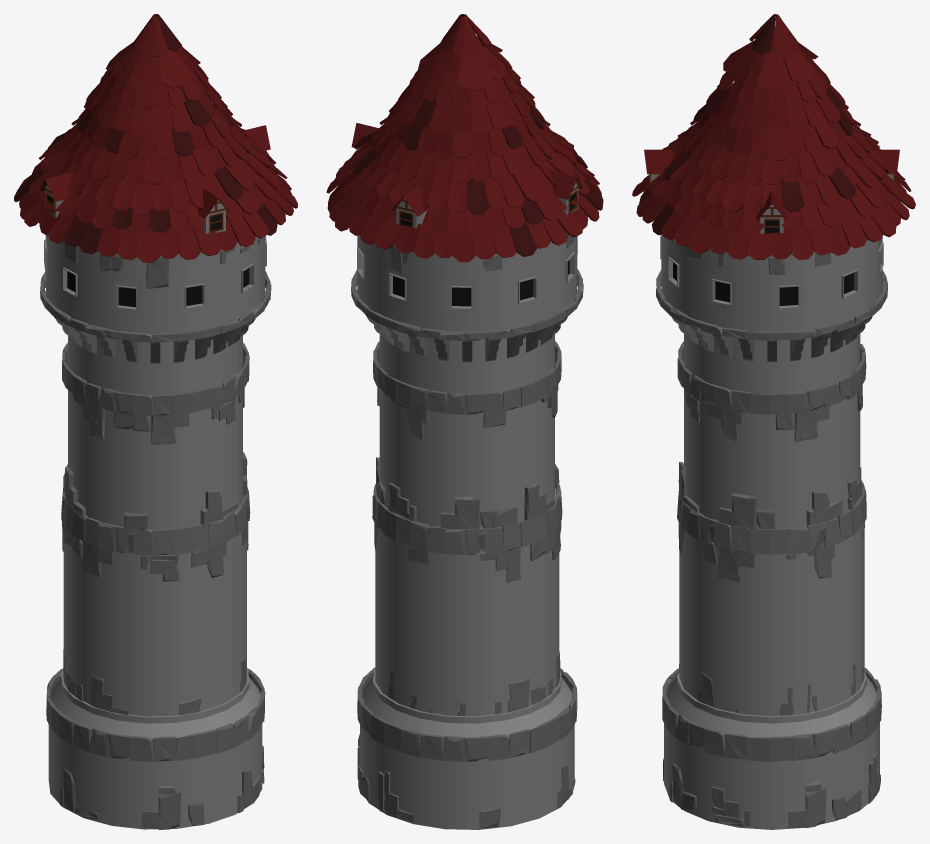
The model's file is SM_tower_01.fbx.
3 views of the same model, side by side, from view 1: azimuth 30°, elevation 25°; view 2: azimuth 150°, elevation 25°; view 3: azimuth 270°, elevation 25° (orthographic).
Parts seen in each view (by area): view 1: Cylinder015; view 2: Cylinder015; view 3: Cylinder015.
Boxes of the visible parts, left/top/right/bottom form: Cylinder015: left=14, top=14, right=297, bottom=829; Cylinder015: left=326, top=14, right=603, bottom=829; Cylinder015: left=632, top=14, right=915, bottom=829.
Bounding box in the file's own units: 284 × 284 × 850.
